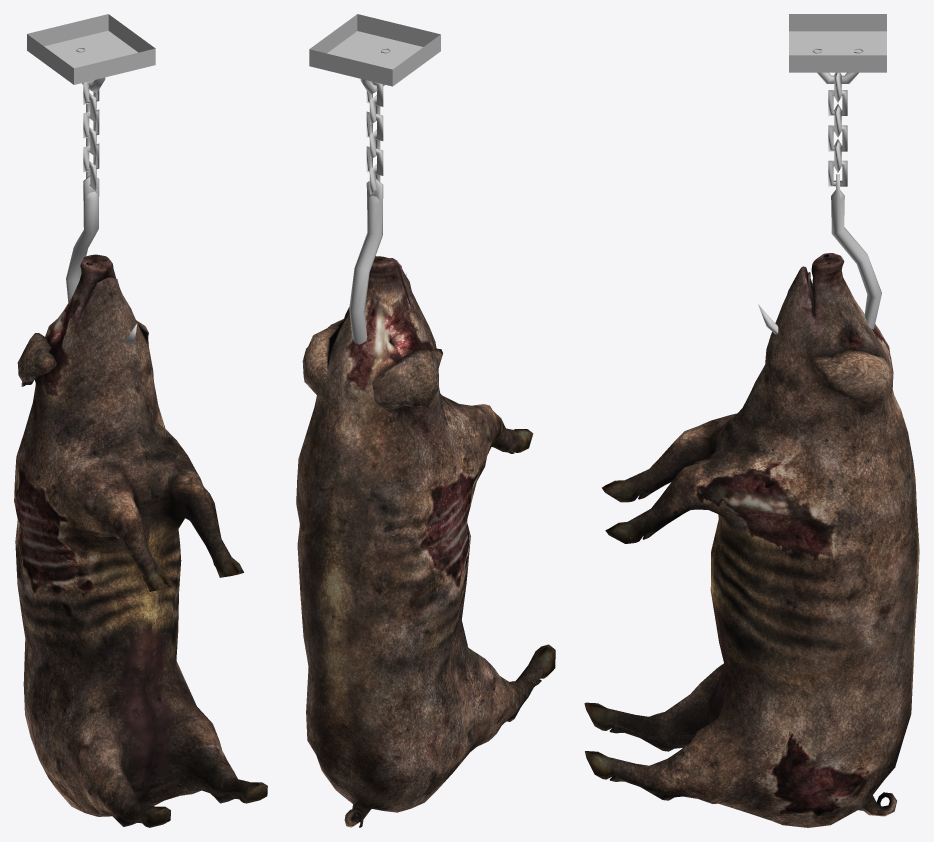
Rendered from pig_corpse_hanging.dae.
3 views of the same model, side by side, from view 1: azimuth 30°, elevation 25°; view 2: azimuth 150°, elevation 25°; view 3: azimuth 270°, elevation 25° (orthographic). The views are drawn at different scales.
Parts seen in each view (by area): view 1: carcass, ceilingplate, hook, chain; view 2: carcass, ceilingplate, hook, chain; view 3: carcass, ceilingplate, hook, chain.
Part boxes in pixels (x1,y1,x2,y2): carcass: (14, 254, 267, 827); ceilingplate: (27, 14, 155, 92); hook: (66, 175, 137, 345); chain: (83, 80, 99, 190); carcass: (296, 256, 555, 827); ceilingplate: (309, 14, 440, 94); hook: (349, 179, 406, 344); chain: (366, 81, 383, 194); carcass: (584, 253, 919, 827); ceilingplate: (789, 14, 886, 83); hook: (758, 174, 881, 334); chain: (828, 72, 847, 186).
Bounding box in the file's own units: 0.3357 × 1.73 × 0.6697.
